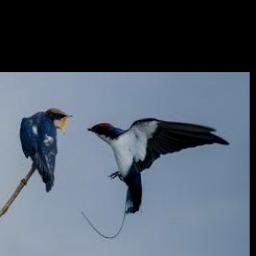Swallow: (87, 117, 229, 213), (20, 107, 72, 191)
